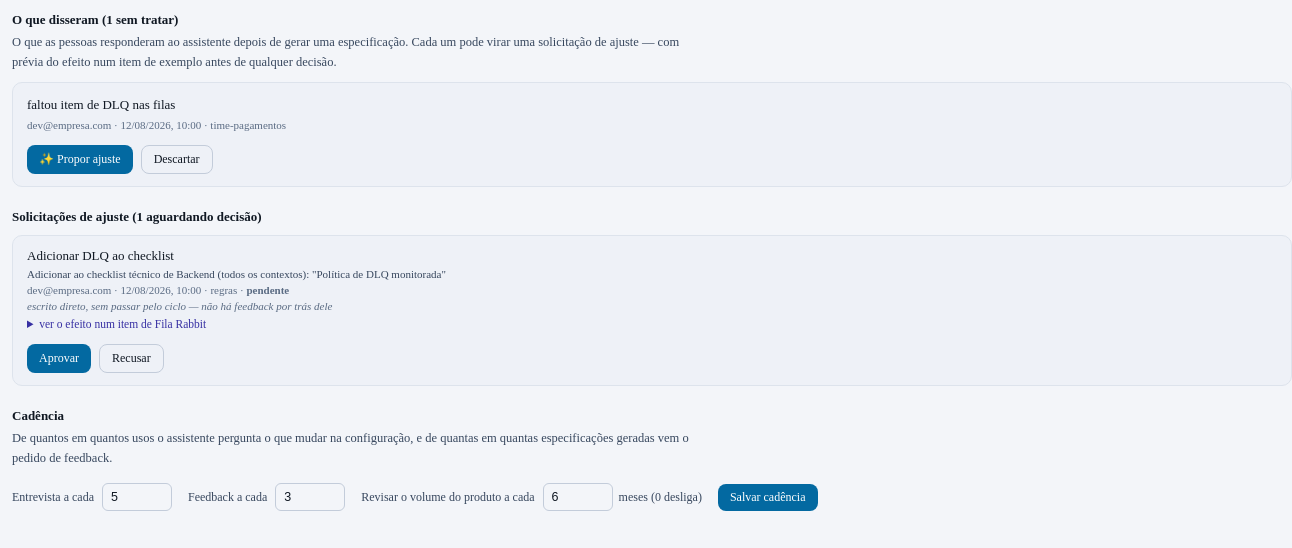
PdcaTab — o card de quem DECIDE › §278 — mostra O EFEITO num item de exemplo, que só quem PROPÕE via
The width and height of the screenshot is (1292, 548).
Click the heading with test id "ver-efeito-s9" at (123,324), box [39,318,206,330]
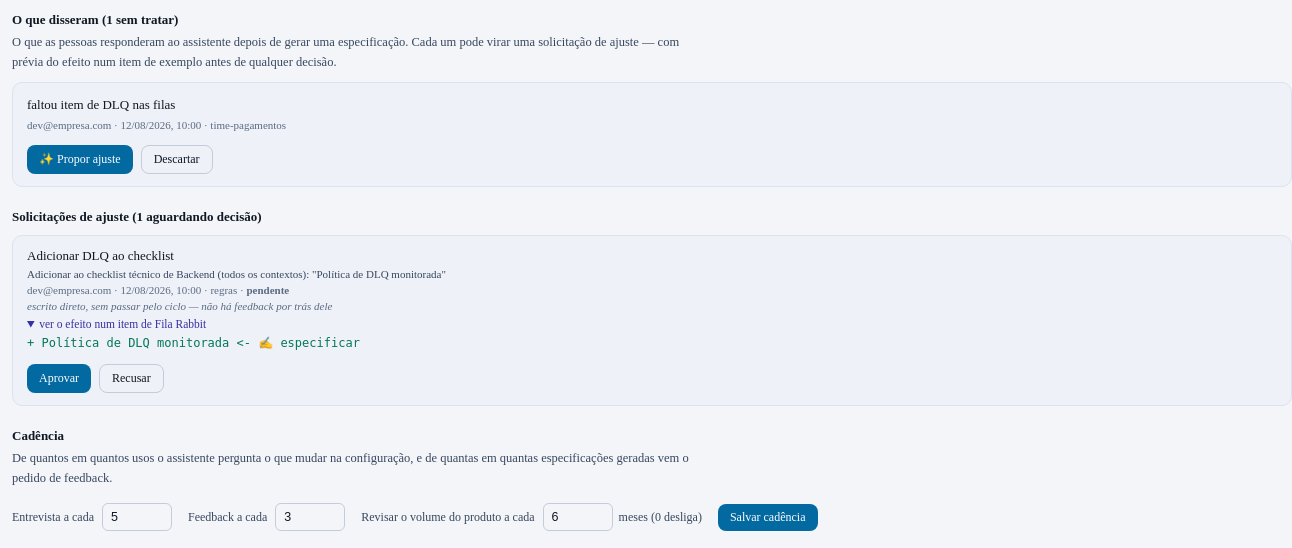
Result: the element with test id "efeito-s9" shows "Política de DLQ monitorada" at [42,336,360,350]
